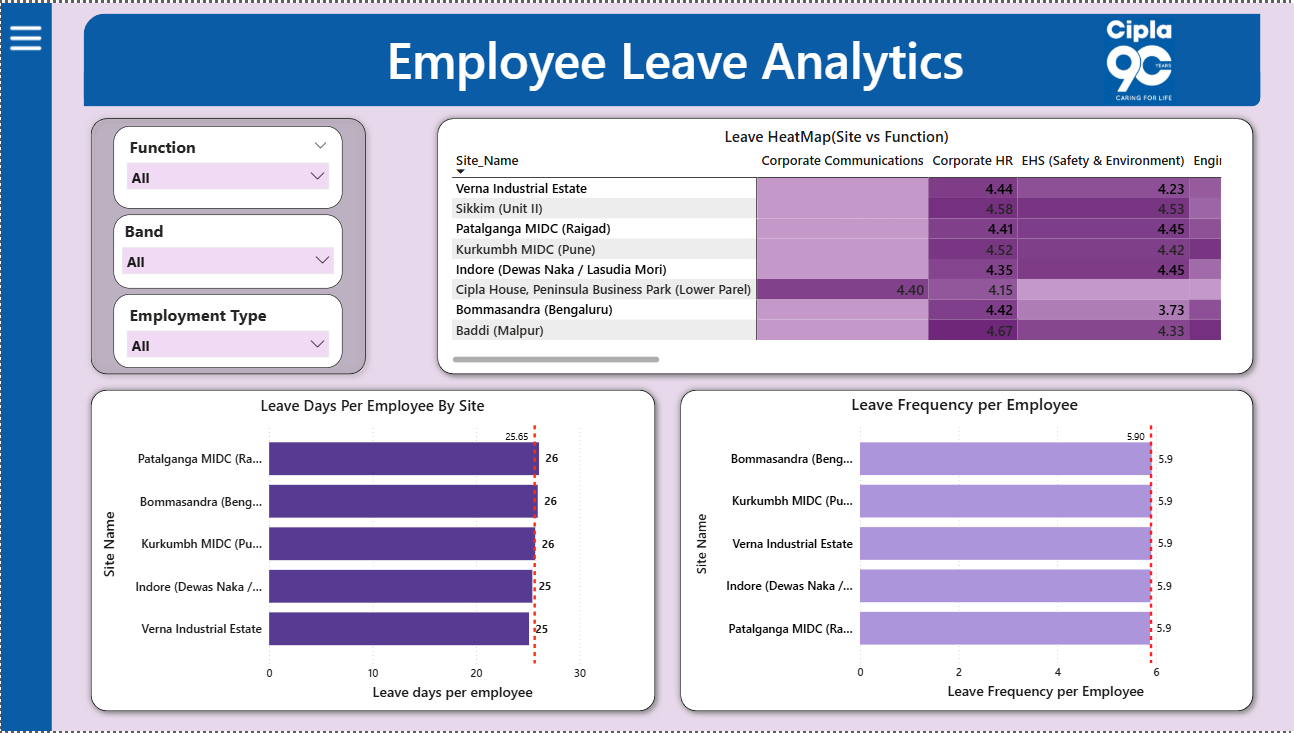

What the dashboard file says about the page in this screenshot:
{"tool":"powerbi","page":{"name":"Location Insights","canvas":[1600,900],"ordinal":1},"visuals":[{"type":"shape","box":[0,0,62.7,900],"z":0,"group":"g2"},{"type":"actionButton","title":"Flyout","box":[245.1,0,1354.9,900],"z":0,"group":"g1"},{"type":"shape","box":[102.1,85.1,1453.2,42.6],"z":0},{"type":"shape","box":[102.1,12.8,1453.2,104.3],"z":1000},{"type":"actionButton","title":"Menu Button","box":[5.9,13.7,50,60],"z":1000,"group":"g2"},{"type":"actionButton","title":"back button","box":[298.1,60.8,68.6,60.8],"z":1000,"group":"g1"},{"type":"shape","title":"Page Navigation","box":[62.8,0,249,900],"z":2000,"group":"g1"},{"type":"shape","box":[102.1,468.1,714.9,414.9],"z":2000},{"type":"shape","box":[102.1,134,357.4,334],"z":3000},{"type":"actionButton","title":"Pattern Insights","box":[31.4,419.6,266.7,62.7],"z":3000,"group":"g1"},{"type":"actionButton","title":"Location Insights","box":[31.4,318.6,266.7,62.7],"z":4000,"group":"g1"},{"type":"clusteredBarChart","title":"Leave Days Per Employee By Site","fields":{"Category":["Sites.Site_Name"],"Y":["Leaves.Avg Leave per Employee"]},"box":[121.3,483,676.6,383],"z":4000},{"type":"slicer","fields":{"Values":["Employees.Function"]},"box":[138.3,151.1,283,102.1],"z":5000},{"type":"actionButton","title":"Executive Overview","box":[31.4,217.6,266.7,62.7],"z":5000,"group":"g1"},{"type":"slicer","fields":{"Values":["Employees.Band"]},"box":[138.3,260.6,283,91.5],"z":6000},{"type":"slicer","title":"nnn","fields":{"Values":["Employees.Employment_Type"]},"box":[138.3,359.6,283,91.5],"z":7000},{"type":"shape","box":[829.8,468.1,725.5,414.9],"z":8000},{"type":"shape","title":"Leave Heatmap(Site vs Function)","box":[529.8,134,1025.5,334],"z":9000},{"type":"image","box":[1280,13.8,243.8,107.5],"z":9500},{"type":"group","id":"g1","title":"Menu Objects","box":[31.4,0,1568.6,900],"z":10000},{"type":"group","id":"g2","title":"Menu Bar","box":[0,0,62.7,900],"z":11000},{"type":"pivotTable","title":"Leave HeatMap(Site vs Function)","fields":{"Rows":["Sites.Site_Name"],"Columns":["Employees.Function"],"Values":["Avg(Leaves.Leave_Days)"]},"box":[551.1,151.1,959.6,297.9],"z":12000},{"type":"clusteredBarChart","title":"Leave Frequency per Employee ","fields":{"Category":["Sites.Site_Name"],"Y":["Calendar.Leave Frequency per Employee"]},"box":[852,482,676,384],"z":13000}]}

Visuals, with their boxes in screenshot pixels (x1, y1, x2, y2), scaled from the page's 1600x900 canvas onto the 1294x733 screenshot:
shape: [x1=0, y1=0, x2=51, y2=732]
"Flyout" actionButton: [x1=198, y1=0, x2=1293, y2=732]
shape: [x1=83, y1=69, x2=1258, y2=104]
shape: [x1=83, y1=10, x2=1258, y2=95]
"Menu Button" actionButton: [x1=5, y1=11, x2=45, y2=60]
"back button" actionButton: [x1=241, y1=50, x2=297, y2=99]
"Page Navigation" shape: [x1=51, y1=0, x2=252, y2=732]
shape: [x1=83, y1=381, x2=661, y2=719]
shape: [x1=83, y1=109, x2=372, y2=381]
"Pattern Insights" actionButton: [x1=25, y1=342, x2=241, y2=393]
"Location Insights" actionButton: [x1=25, y1=259, x2=241, y2=311]
"Leave Days Per Employee By Site" clusteredBarChart: [x1=98, y1=393, x2=645, y2=705]
slicer - Employees.Function: [x1=112, y1=123, x2=341, y2=206]
"Executive Overview" actionButton: [x1=25, y1=177, x2=241, y2=228]
slicer - Employees.Band: [x1=112, y1=212, x2=341, y2=287]
"nnn" slicer: [x1=112, y1=293, x2=341, y2=367]
shape: [x1=671, y1=381, x2=1258, y2=719]
"Leave Heatmap(Site vs Function)" shape: [x1=428, y1=109, x2=1258, y2=381]
image: [x1=1035, y1=11, x2=1232, y2=99]
"Menu Objects" group: [x1=25, y1=0, x2=1293, y2=732]
"Menu Bar" group: [x1=0, y1=0, x2=51, y2=732]
"Leave HeatMap(Site vs Function)" pivotTable: [x1=446, y1=123, x2=1222, y2=366]
"Leave Frequency per Employee " clusteredBarChart: [x1=689, y1=393, x2=1236, y2=705]
